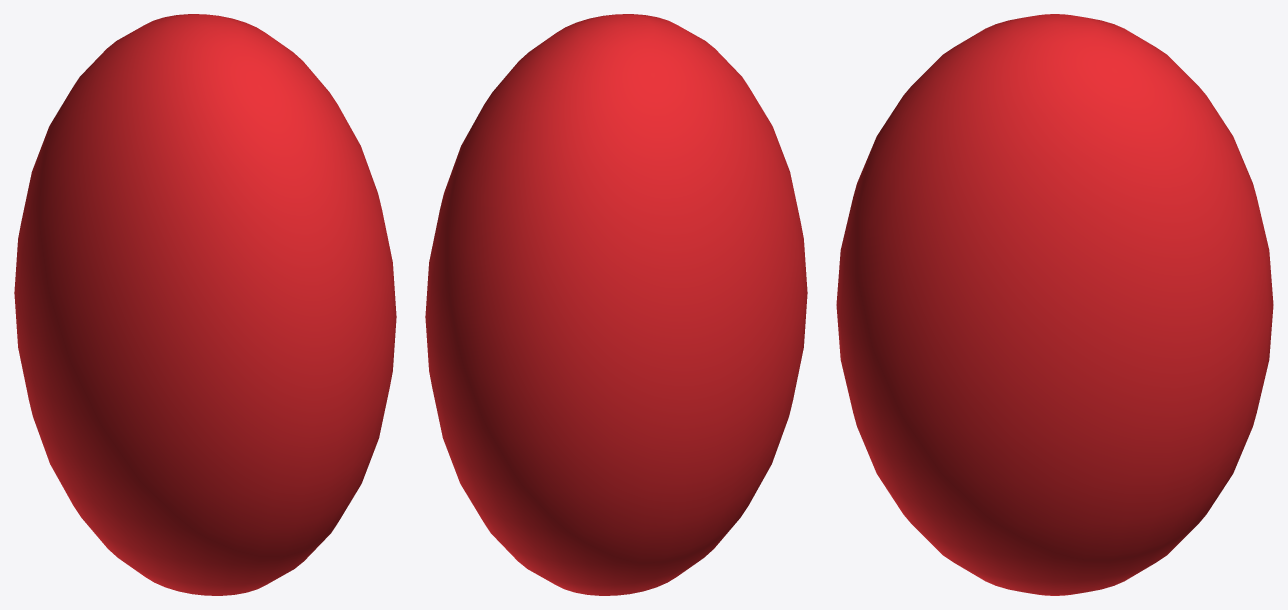
The model's file is redEGG_T3.glb.
3 views of the same model, side by side, from view 1: azimuth 30°, elevation 25°; view 2: azimuth 150°, elevation 25°; view 3: azimuth 270°, elevation 25° (orthographic).
Parts seen in each view (by area): view 1: egg_t3; view 2: egg_t3; view 3: egg_t3.
Boxes of the visible parts, x1,y1,x2,y2 form: egg_t3: (14, 14, 396, 595); egg_t3: (425, 14, 807, 595); egg_t3: (836, 14, 1273, 595).
Bounding box in the file's own units: 2 × 3.38 × 2.38.
